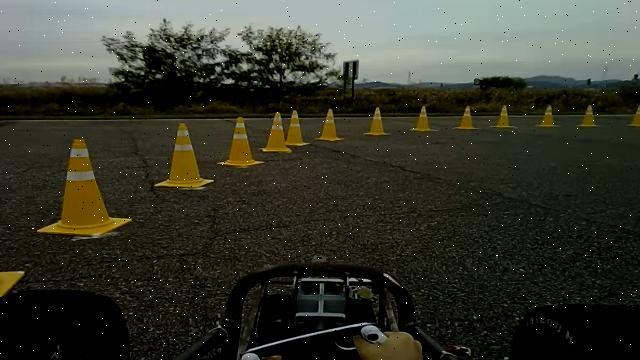yellow cone: (36, 138, 132, 236), (154, 122, 214, 188), (217, 116, 265, 166), (261, 111, 292, 152), (315, 108, 344, 141), (285, 109, 310, 146), (364, 106, 391, 136), (409, 105, 438, 132), (453, 106, 480, 130), (490, 105, 517, 128), (536, 104, 560, 127), (577, 105, 601, 127), (626, 104, 640, 127)
